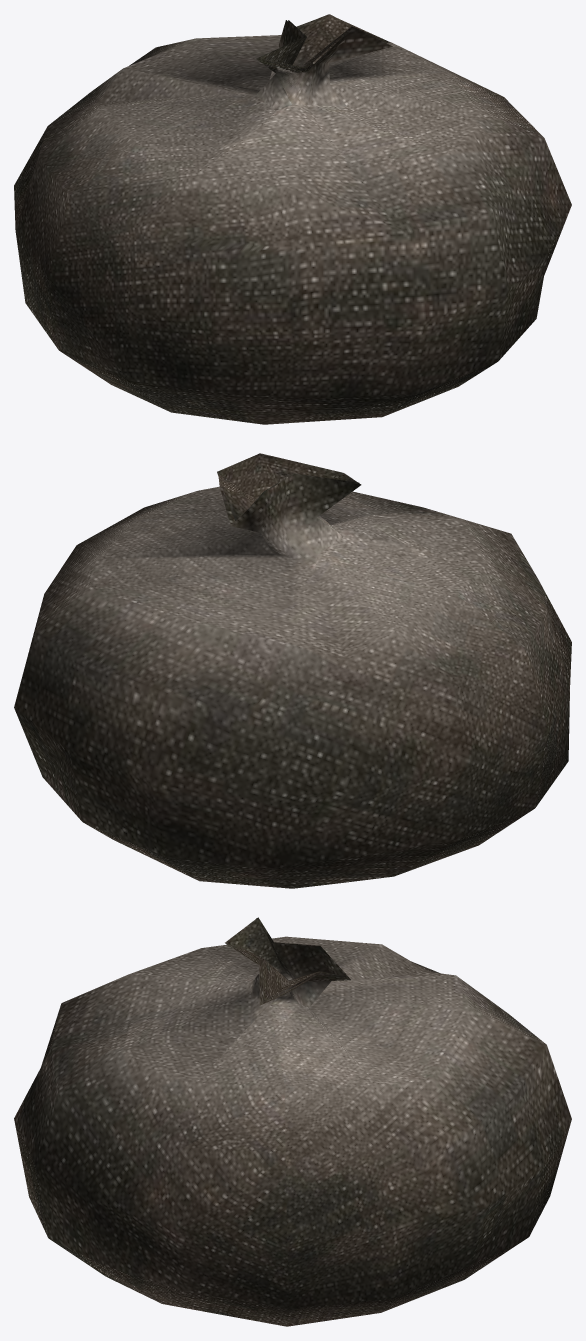
Rendered from 立方体.017.fbx.
The picture shows the model from 3 angles, top to bottom: view 1: azimuth 30°, elevation 25°; view 2: azimuth 150°, elevation 25°; view 3: azimuth 270°, elevation 25°; orthographic projection. The views are drawn at different scales.
Visible parts, largest first — view 1: 立方体.017_Baked; view 2: 立方体.017_Baked; view 3: 立方体.017_Baked.
Part boxes in pixels (x1,y1,x2,y2): 立方体.017_Baked: (14,14,571,424); 立方体.017_Baked: (14,453,571,888); 立方体.017_Baked: (14,917,571,1326).
Size of the model in its own units: 40.72 by 26.92 by 41.23.
Materials: 1 (1 with a texture image).
